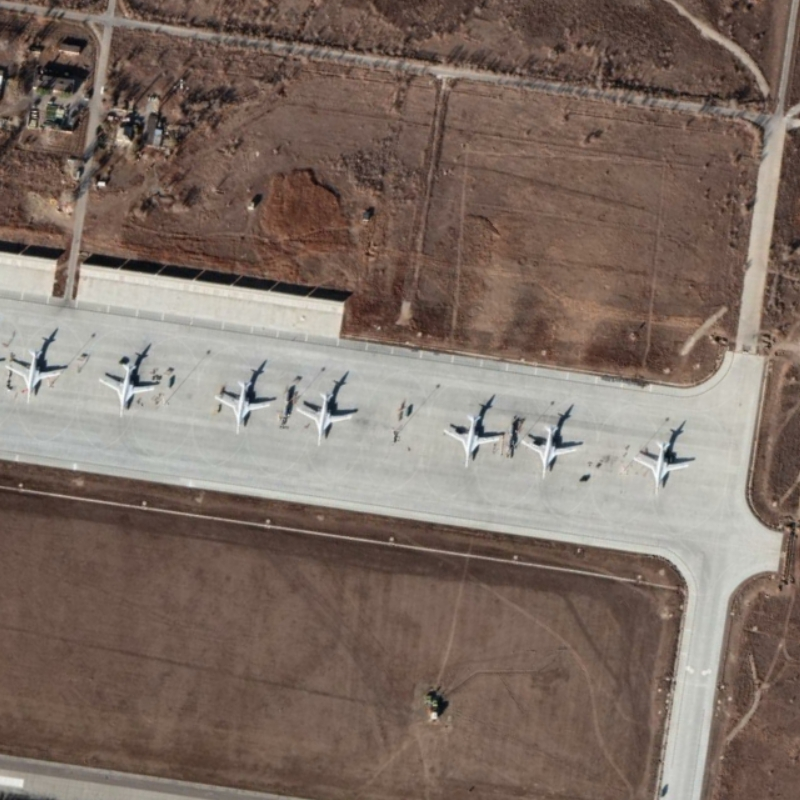A6: (516, 419, 585, 484), (440, 411, 508, 473), (210, 375, 279, 436), (292, 386, 357, 449), (629, 437, 696, 498), (98, 361, 157, 420), (4, 347, 64, 404)
